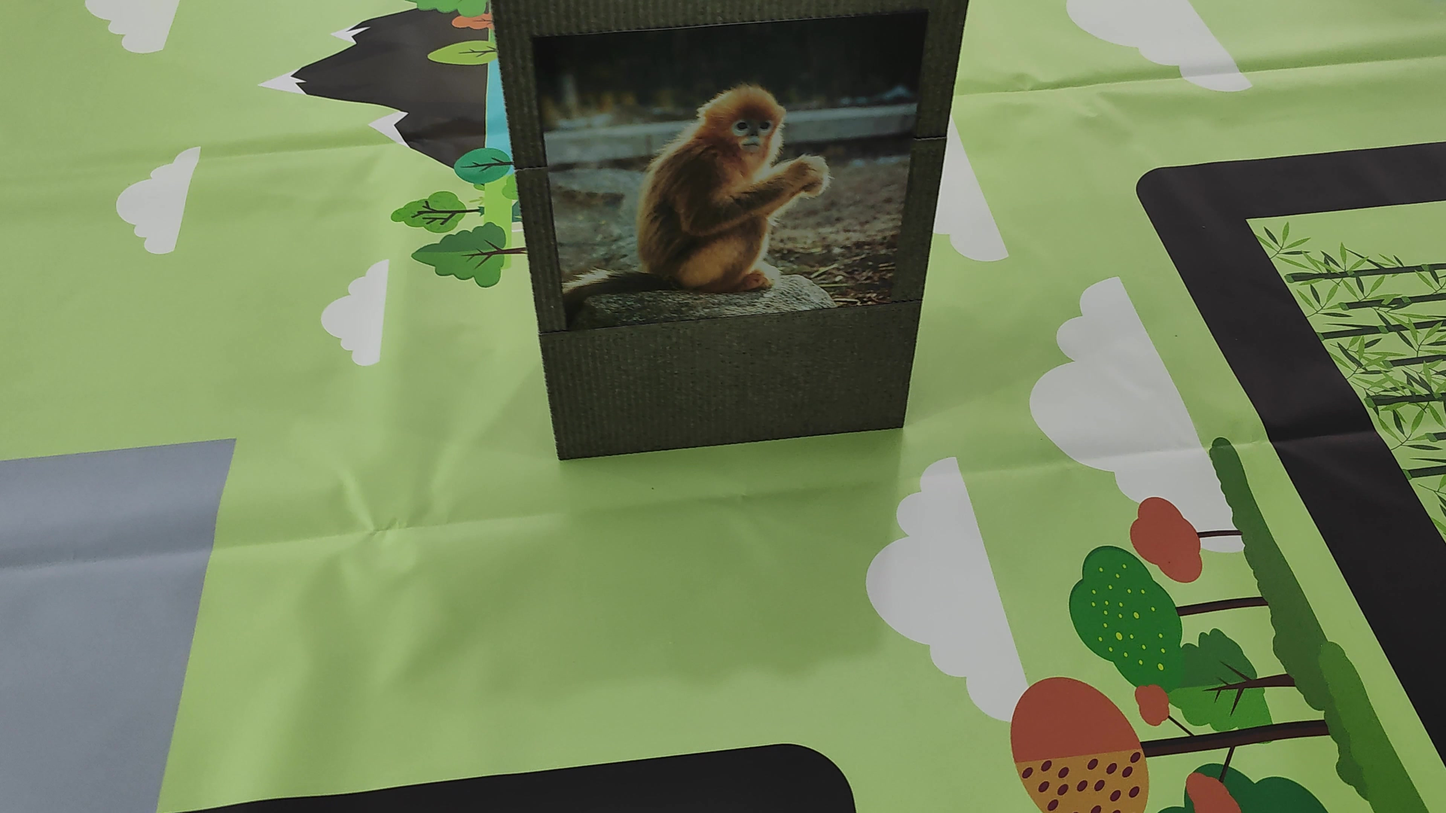monkey: (601, 65, 862, 318)
